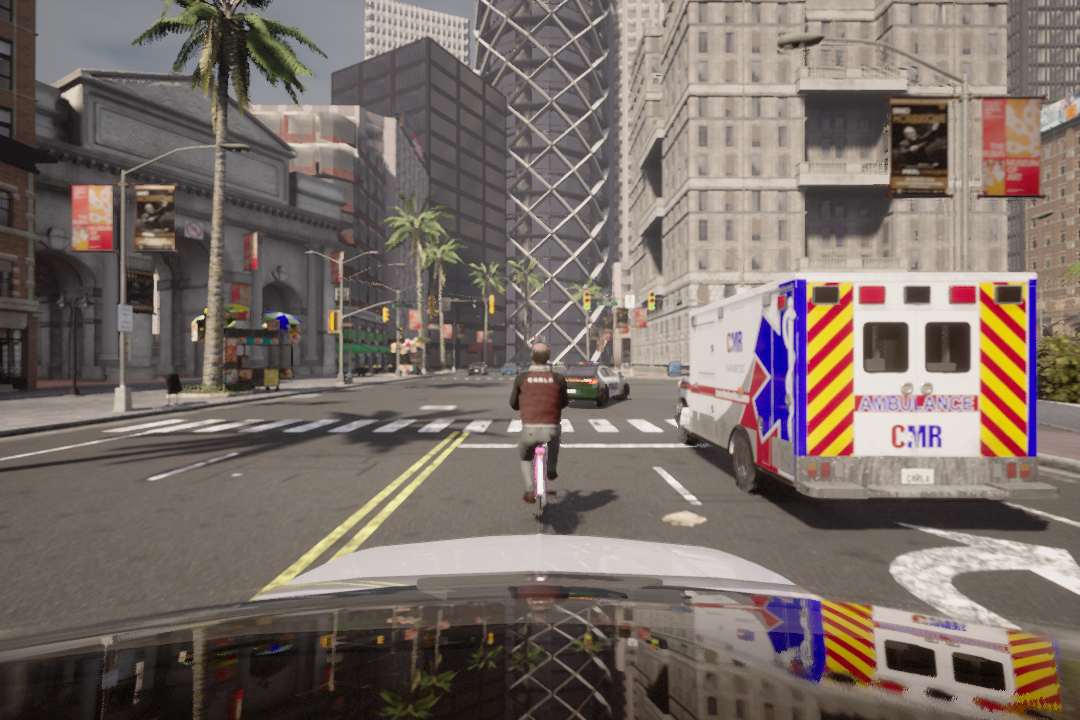RoadSign_right: (837, 512, 1080, 635)
TrafficLight: (583, 290, 592, 314), (647, 290, 656, 313)
TrafficSign_nstop: (185, 219, 203, 240)
walkside: (99, 407, 727, 446)
